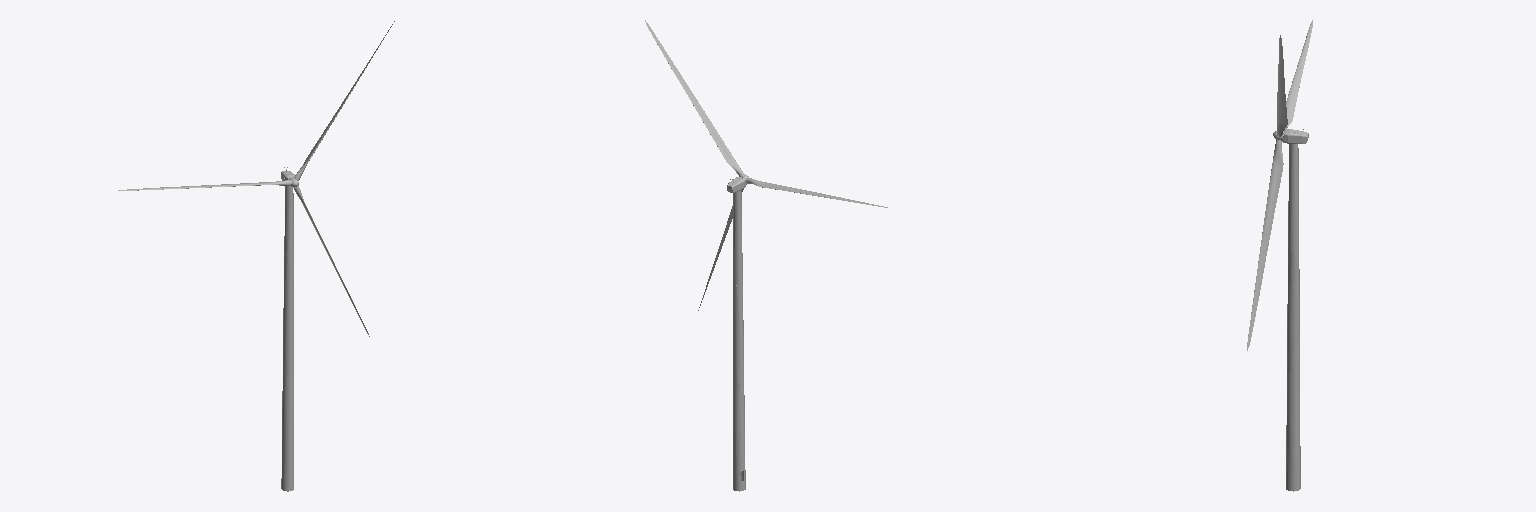
URDF robot description (fengji):
<?xml version="1.0" encoding="utf-8"?>
<!-- This URDF was automatically created by SolidWorks to URDF Exporter! Originally created by Stephen Brawner ([email redacted]) 
     Commit Version: 1.6.0-4-g7f85cfe  Build Version: 1.6.7995.38578
     For more information, please see http://wiki.ros.org/sw_urdf_exporter -->
<robot
  name="fengji">
  <link
    name="base_link">
    <inertial>
      <origin
        xyz="0.165630641297193 0.0179082360041747 0.022829210657676"
        rpy="0 0 0" />
      <mass
        value="272.346349793285" />
      <inertia
        ixx="10.9162892535691"
        ixy="-6.76633079284096"
        ixz="-8.62563967851044"
        iyy="72.7655017894727"
        iyz="-0.932617236984803"
        izz="72.308198141046" />
    </inertial>
    <visual>
      <origin
        xyz="0 0 0"
        rpy="0 0 0" />
      <geometry>
        <mesh
          filename="package://fengji/meshes/base_link.STL" scale="0.2 0.2 0.2" />
      </geometry>
      <material
        name="">
        <color
          rgba="0.752941176470588 0.752941176470588 0.752941176470588 1" />
      </material>
    </visual>
    <collision>
      <origin
        xyz="0 0 0"
        rpy="0 0 0" />
      <geometry>
        <mesh
          filename="package://fengji/meshes/base_link.STL" scale="0.2 0.2 0.2" />
      </geometry>
    </collision>
  </link>
  
  <link name="world"/>
  <joint name="world_joint" type="fixed">
  	<parent link="world"/>
  	<child link="base_link"/>
  	<origin rpy="1.5708 0 -1.5708" xyz="0 0 14.33"/>
  </joint>
</robot>

--- Render facts (derived) ---
3 views of the same robot in one strip: view 1: azimuth 30°, elevation 25°; view 2: azimuth 150°, elevation 25°; view 3: azimuth 270°, elevation 25° (orthographic).
Robot: fengji — 2 links, 1 joints (1 fixed); root link world; default pose: all joints at 0.
Visible links, largest first — view 1: base_link; view 2: base_link; view 3: base_link.
Link boxes in pixels (bbox=[...]): base_link: bbox=[118, 21, 394, 491]; base_link: bbox=[645, 20, 887, 491]; base_link: bbox=[1247, 20, 1312, 491].
Size in the robot's own frame: 12.71 by 2.42 by 20.59 metres.
Meshes: 1 distinct files referenced, 1 mesh visuals loaded (1 binary STL).
